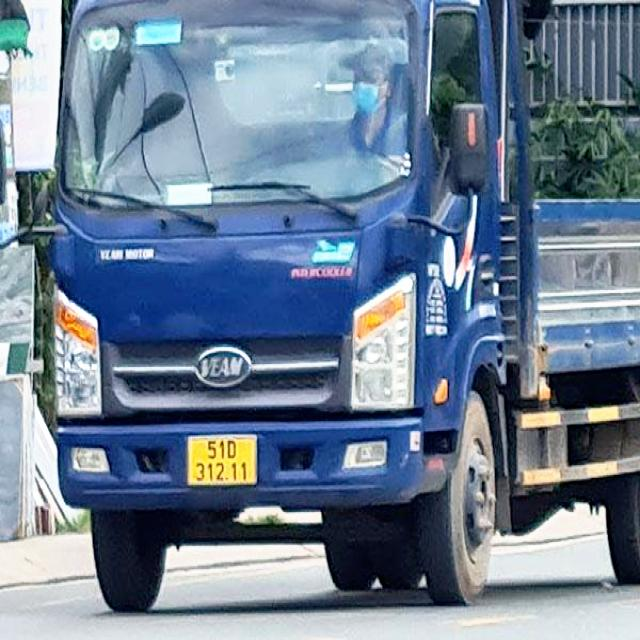license_plate: (189, 436, 259, 488)
